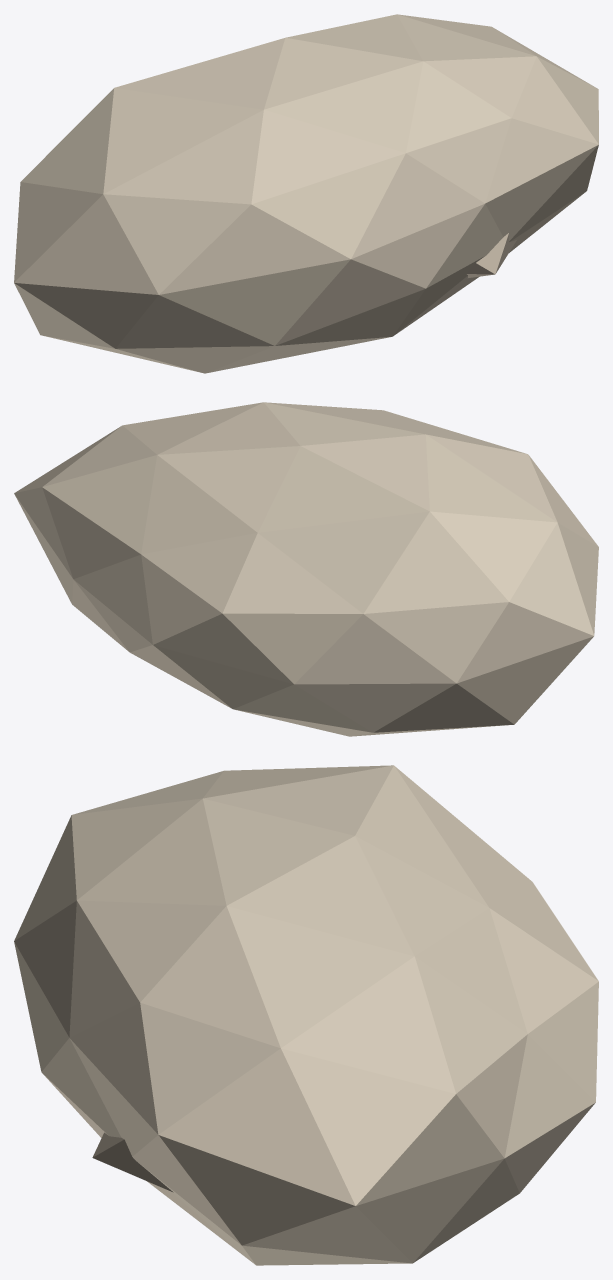
File: campo_rock_granite_7.glb
The picture shows the model from 3 angles, top to bottom: view 1: azimuth 30°, elevation 25°; view 2: azimuth 150°, elevation 25°; view 3: azimuth 270°, elevation 25°; orthographic projection. The views are drawn at different scales.
Parts seen in each view (by area): view 1: campo_rock_granite_7.glb; view 2: campo_rock_granite_7.glb; view 3: campo_rock_granite_7.glb.
Part boxes in pixels (x1,y1,x2,y2): campo_rock_granite_7.glb: [14, 14, 598, 373]; campo_rock_granite_7.glb: [14, 402, 598, 736]; campo_rock_granite_7.glb: [14, 765, 598, 1265].
Size of the model in its own units: 2.34 by 1.03 by 1.48.
